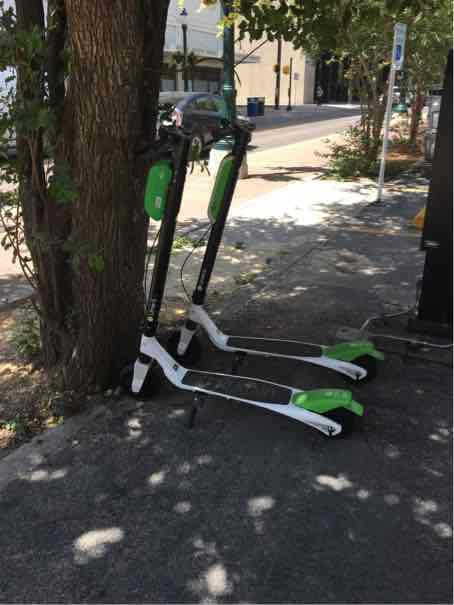scooter: (135, 110, 374, 438)
